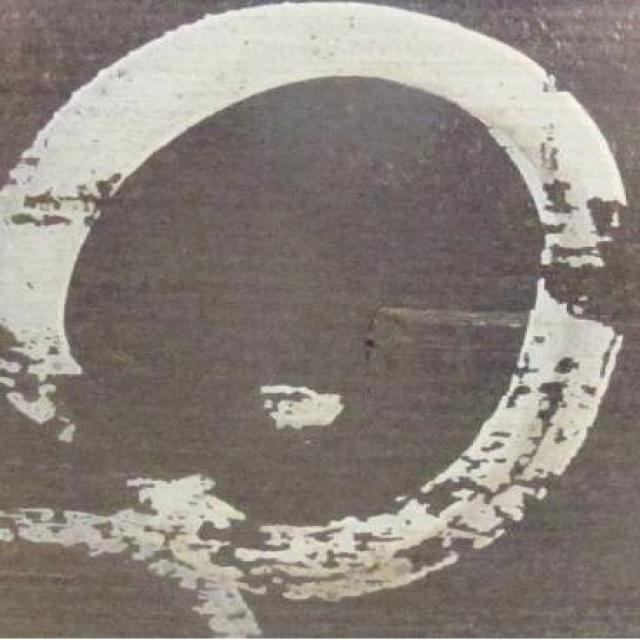Contact_Fatigue_Cracks: (359, 308, 387, 404)
